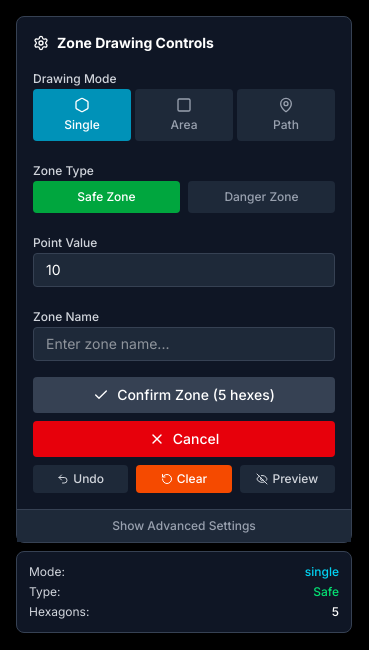
Test: GameManagerControls › Drawing Actions › should enable confirm when zones and name present
Type "Test Zone" into the field with placeholder "Enter zone name...".
click(184, 344); type("Test Zone")  # box [33,327,335,361]
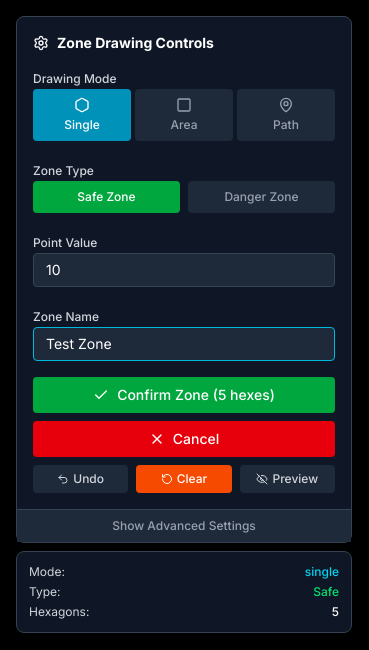
Result: the button "Confirm Zone (5 hexes)" is enabled at [33,377,335,413]
